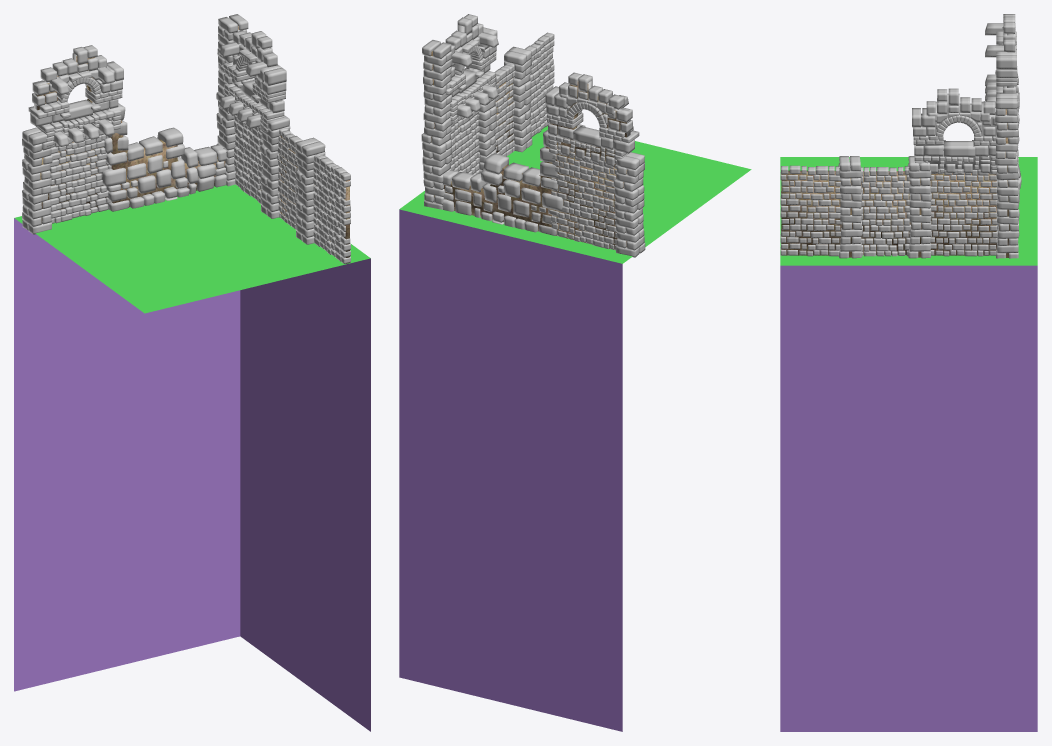
The model's file is RoomCorner_5.fbx.
The picture shows the model from 3 angles, left to right: view 1: azimuth 30°, elevation 25°; view 2: azimuth 150°, elevation 25°; view 3: azimuth 270°, elevation 25°; orthographic projection.
Parts seen in each view (by area): view 1: RoomCorner_5; view 2: RoomCorner_5; view 3: RoomCorner_5.
Part boxes in pixels (x1,y1,x2,y2): RoomCorner_5: [14, 14, 370, 731]; RoomCorner_5: [399, 14, 751, 731]; RoomCorner_5: [780, 14, 1037, 731].
Size of the model in its own units: 405 by 1081 by 400.
